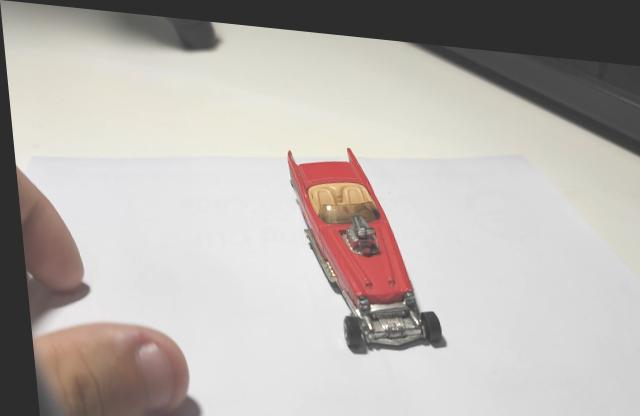03_V8: (282, 143, 441, 349)
